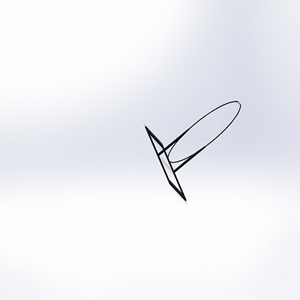circle: (141, 97, 242, 202)
